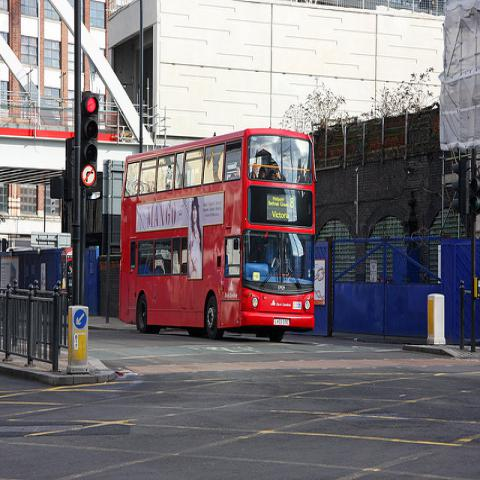bus: (116, 129, 314, 340)
